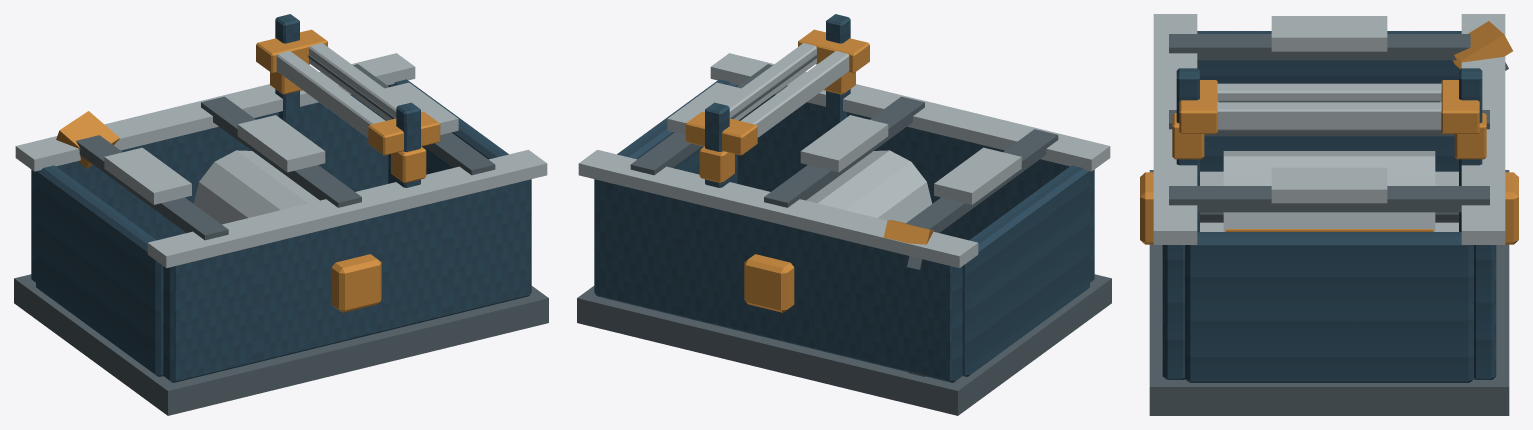
The model's file is galvanizing-lod2.glb.
3 renders of one model, left to right at view 1: azimuth 30°, elevation 25°; view 2: azimuth 150°, elevation 25°; view 3: azimuth 270°, elevation 25°, orthographic. The views are drawn at different scales.
Visible parts, largest first — view 1: right_bath_wall, support_bed, entry_bath_wall, left_bath_wall, right_rim, left_rim, sink_roll_surface, work_crossbar, work_support, entry_support, inlet_nozzle, entry_crossbar (+11 smaller); view 2: left_bath_wall, support_bed, entry_bath_wall, right_bath_wall, left_rim, right_rim, sink_roll_surface, work_crossbar, work_support, entry_support, inlet_nozzle, entry_crossbar (+11 smaller); view 3: exit_bath_wall, support_bed, entry_bath_wall, sink_roll_surface, right_rim, outlet_nozzle, exit_crossbar, left_rim, entry_crossbar, exit_support, entry_support, inlet_nozzle (+16 smaller).
Boxes of the visible parts, x1,y1,x2,y2 form: right_bath_wall: (163, 179, 531, 382); support_bed: (14, 274, 548, 415); entry_bath_wall: (36, 165, 163, 376); left_bath_wall: (31, 85, 388, 282); right_rim: (147, 149, 547, 268); left_rim: (15, 53, 415, 171); sink_roll_surface: (193, 150, 319, 224); work_crossbar: (201, 96, 361, 207); work_support: (237, 115, 325, 172); entry_support: (104, 147, 191, 204); inlet_nozzle: (276, 51, 385, 137); entry_crossbar: (76, 135, 228, 240); left_bath_wall: (594, 179, 962, 382); support_bed: (577, 274, 1111, 415); entry_bath_wall: (962, 165, 1089, 376); right_bath_wall: (737, 85, 1094, 282); left_rim: (578, 149, 978, 268); right_rim: (710, 53, 1110, 171); sink_roll_surface: (806, 150, 932, 223); work_crossbar: (764, 96, 924, 207); work_support: (800, 115, 888, 172); entry_support: (934, 147, 1021, 204); inlet_nozzle: (740, 51, 849, 137); entry_crossbar: (906, 129, 1058, 232); exit_bath_wall: (1185, 232, 1473, 382); support_bed: (1149, 170, 1509, 415); entry_bath_wall: (1197, 31, 1461, 171); sink_roll_surface: (1223, 151, 1435, 231); right_rim: (1153, 14, 1197, 244); outlet_nozzle: (1217, 102, 1441, 130); exit_crossbar: (1169, 186, 1489, 212); left_rim: (1461, 14, 1505, 244); entry_crossbar: (1169, 34, 1470, 60); exit_support: (1271, 167, 1387, 203); entry_support: (1271, 16, 1387, 51); inlet_nozzle: (1217, 83, 1441, 102).
Size of the model in its own units: 4 by 2.38 by 2.95.
7 materials, 1 textured.
